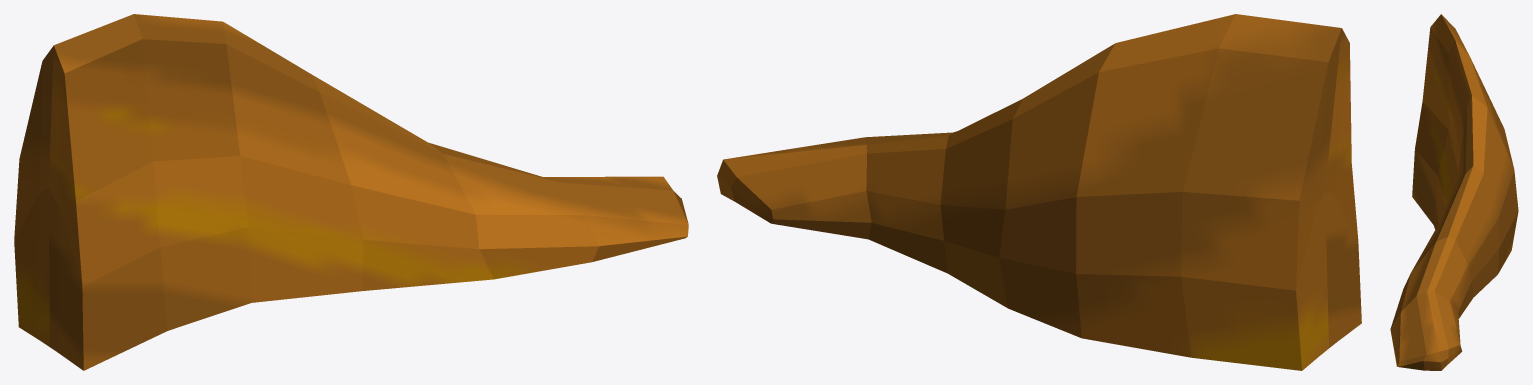
The picture shows the model from 3 angles, left to right: view 1: azimuth 30°, elevation 25°; view 2: azimuth 150°, elevation 25°; view 3: azimuth 270°, elevation 25°; orthographic projection. The views are drawn at different scales.
Parts seen in each view (by area): view 1: Cube.001; view 2: Cube.001; view 3: Cube.001.
Part boxes in pixels (x1,y1,x2,y2): Cube.001: (14,14,688,370); Cube.001: (717,14,1361,370); Cube.001: (1390,14,1518,370).
Bounding box in the file's own units: 2.2 × 1.07 × 0.6792.
1 material, 1 textured.
